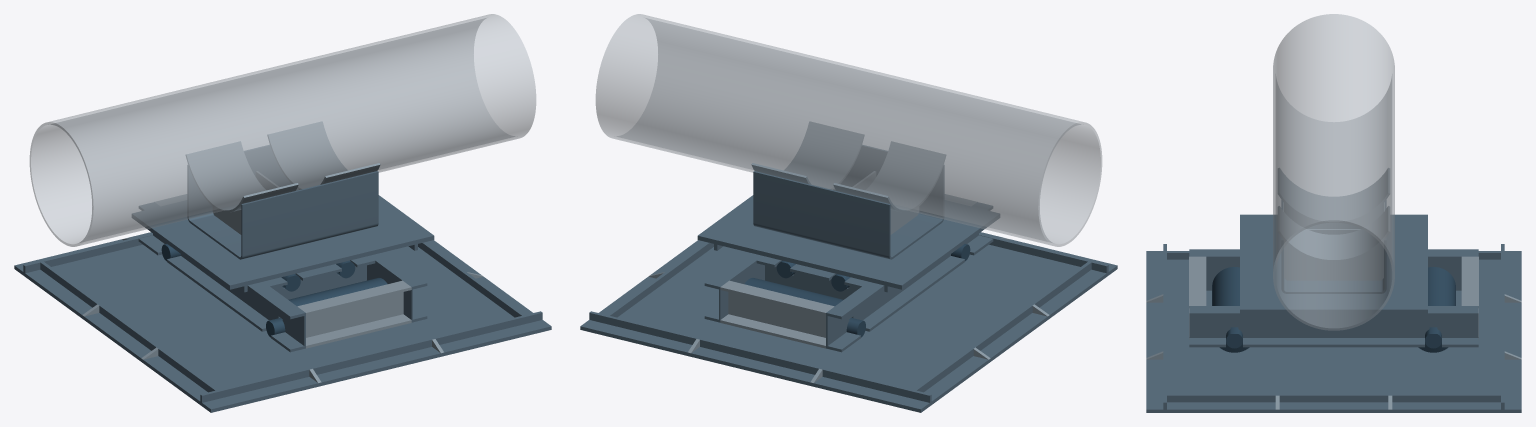
The model's file is TS-628.00.000-06-opora-dn325-hod200.glb.
The picture shows the model from 3 angles, left to right: view 1: azimuth 30°, elevation 25°; view 2: azimuth 150°, elevation 25°; view 3: azimuth 270°, elevation 25°; orthographic projection. The views are drawn at different scales.
Visible parts, largest first — view 1: truba, plita_niz_osnovanie_0, korpus_skoba_56, plita_verh_osnovanie_47, karetka_rebro_shveller_15, karetka_shveller_prodolnyj_13, korpus_podushka_60, korpus_podushka_61, plita_niz_polosa2_7, karetka_shveller_poperechnyj_14, plita_niz_polosa3_8, karetka_shveller_prodolnyj_16 (+2 smaller); view 2: truba, plita_niz_osnovanie_0, korpus_skoba_56, plita_verh_osnovanie_47, karetka_rebro_shveller_18, karetka_shveller_prodolnyj_13, korpus_podushka_60, korpus_podushka_61, plita_niz_polosa2_1, karetka_shveller_poperechnyj_17, plita_niz_polosa3_8, karetka_shveller_prodolnyj_16 (+2 smaller); view 3: truba, plita_niz_osnovanie_0, plita_verh_osnovanie_47, karetka_shveller_prodolnyj_16, korpus_podushka_61, korpus_podushka_60, plita_niz_polosa3_2, korpus_rebro3_58, karetka_shveller_prodolnyj_13, korpus_skoba_56, karetka_rebro_shveller_15, karetka_rebro_shveller_18 (+4 smaller).
Boxes of the visible parts, x1,y1,x2,y2 form: truba: (29, 14, 536, 246); plita_niz_osnovanie_0: (14, 232, 551, 412); korpus_skoba_56: (187, 145, 378, 259); plita_verh_osnovanie_47: (132, 195, 434, 289); karetka_rebro_shveller_15: (297, 280, 411, 348); karetka_shveller_prodolnyj_13: (138, 202, 305, 352); korpus_podushka_60: (186, 141, 298, 212); korpus_podushka_61: (267, 122, 380, 189); plita_niz_polosa2_7: (200, 311, 542, 402); karetka_shveller_poperechnyj_14: (264, 256, 375, 299); plita_niz_polosa3_8: (40, 261, 218, 392); karetka_shveller_prodolnyj_16: (367, 252, 427, 322); truba: (595, 14, 1102, 246); plita_niz_osnovanie_0: (580, 232, 1117, 412); korpus_skoba_56: (753, 145, 944, 259); plita_verh_osnovanie_47: (697, 195, 999, 289); karetka_rebro_shveller_18: (720, 280, 834, 348); karetka_shveller_prodolnyj_13: (826, 202, 993, 352); korpus_podushka_60: (833, 141, 945, 212); korpus_podushka_61: (751, 122, 864, 189); plita_niz_polosa2_1: (589, 311, 931, 402); karetka_shveller_poperechnyj_17: (756, 256, 867, 299); plita_niz_polosa3_8: (913, 261, 1091, 392); karetka_shveller_prodolnyj_16: (704, 252, 764, 322); truba: (1273, 14, 1394, 330); plita_niz_osnovanie_0: (1146, 251, 1521, 412); plita_verh_osnovanie_47: (1240, 214, 1427, 313); karetka_shveller_prodolnyj_16: (1189, 306, 1478, 347); korpus_podushka_61: (1278, 206, 1389, 262); korpus_podushka_60: (1278, 168, 1389, 223); plita_niz_polosa3_2: (1167, 394, 1500, 402); korpus_rebro3_58: (1284, 241, 1383, 280); karetka_shveller_prodolnyj_13: (1189, 249, 1478, 290); korpus_skoba_56: (1281, 200, 1386, 293); karetka_rebro_shveller_15: (1189, 256, 1206, 339); karetka_rebro_shveller_18: (1461, 256, 1478, 339).
Size of the model in its own units: 1300 by 636 by 1000.
